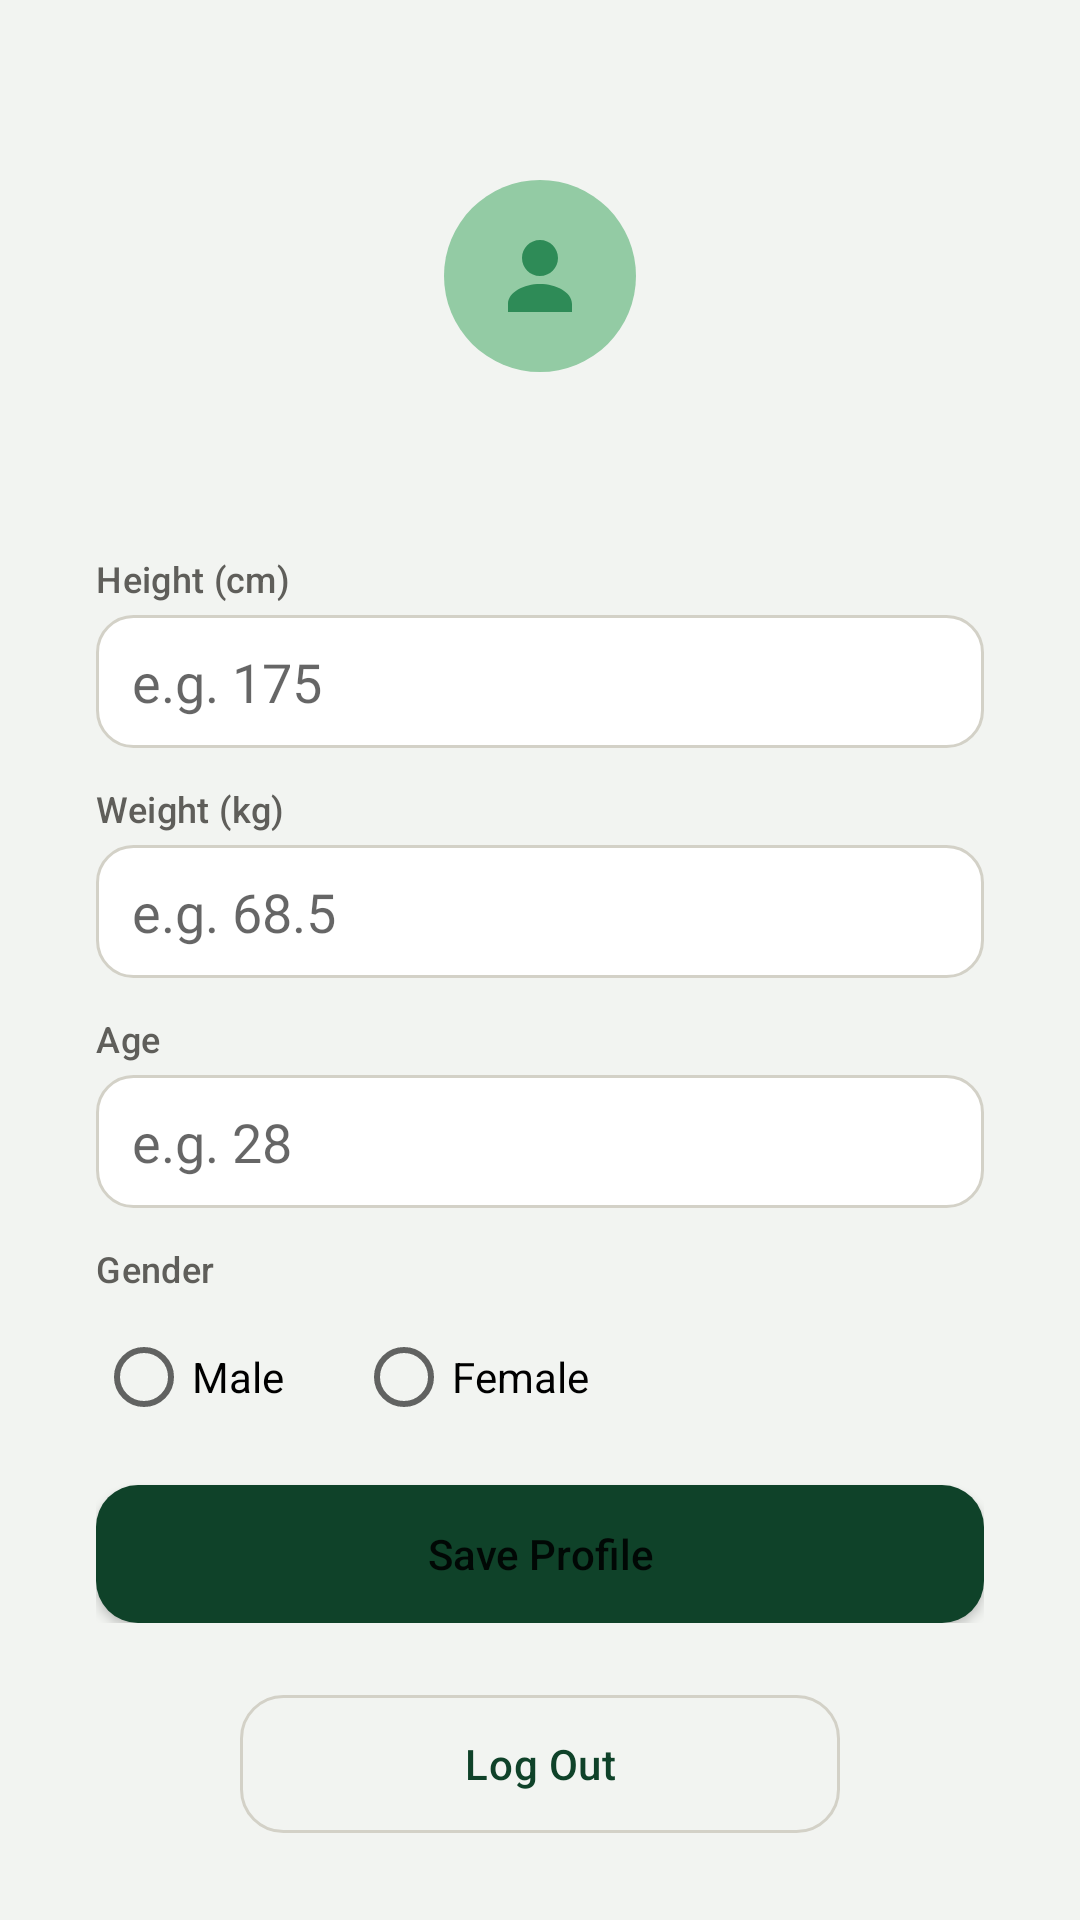

Point at icon controls on the screen. Image size 1080 × 1920, points as point (x, y).
person: point (540, 276)
